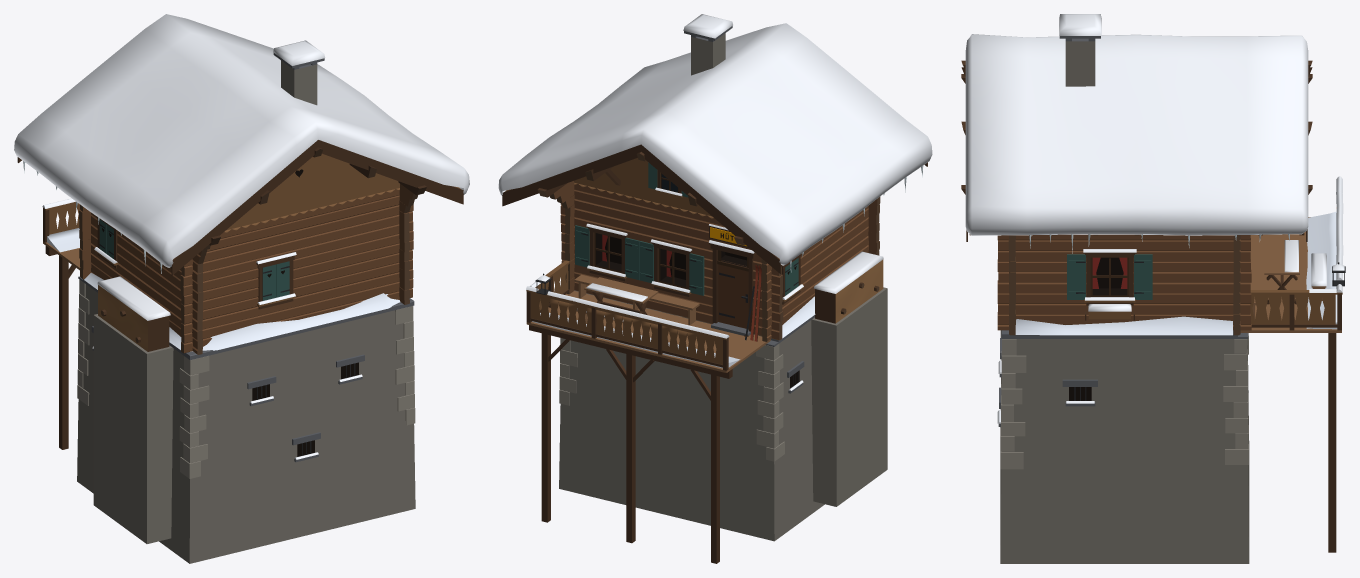
File: mountain-hut.glb
3 views of the same model, side by side, from view 1: azimuth 30°, elevation 25°; view 2: azimuth 150°, elevation 25°; view 3: azimuth 270°, elevation 25° (orthographic). The views are drawn at different scales.
Parts seen in each view (by area): view 1: hut; view 2: hut; view 3: hut.
Boxes of the visible parts, <box> form: hut: <box>14,14,469,563</box>; hut: <box>498,14,932,563</box>; hut: <box>961,14,1345,563</box>.
Size of the model in its own units: 8.01 by 11.22 by 7.81.
